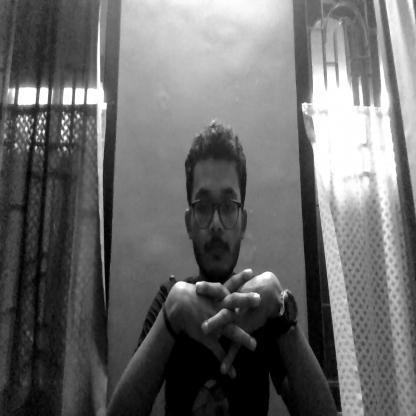Normal: (181, 116, 244, 284)
